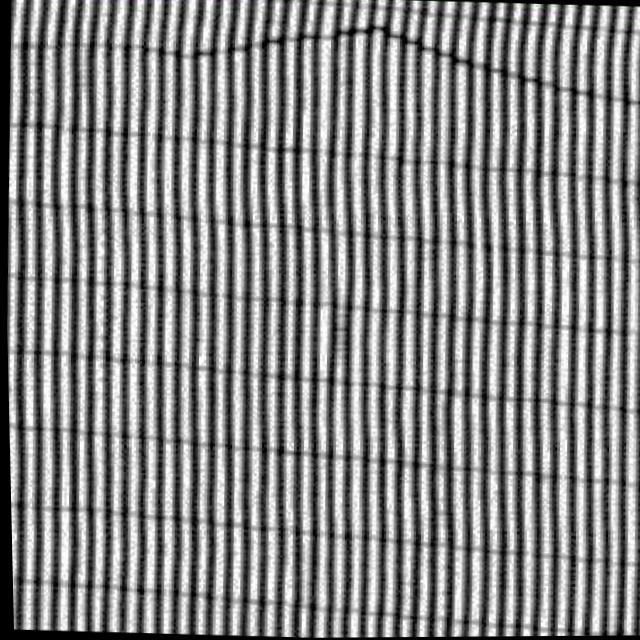Stitch: (155, 5, 564, 109)
